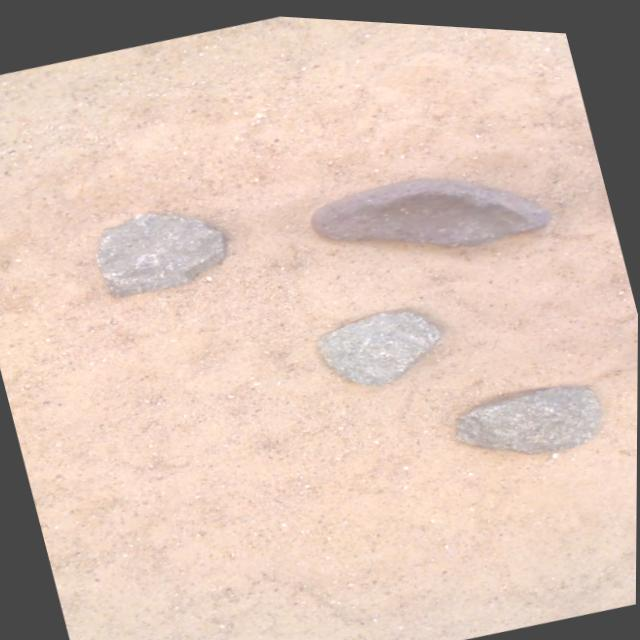rock: (309, 173, 548, 240), (95, 211, 223, 295), (456, 378, 601, 447), (317, 307, 439, 380)
